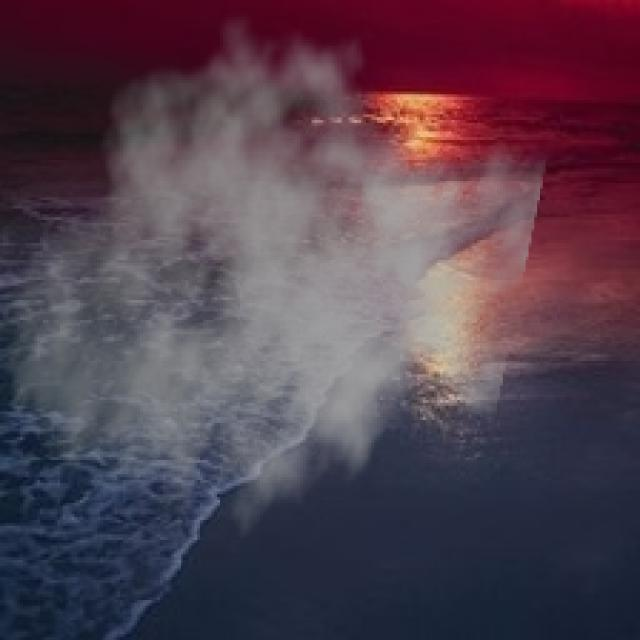Smoke: (2, 11, 548, 560)
